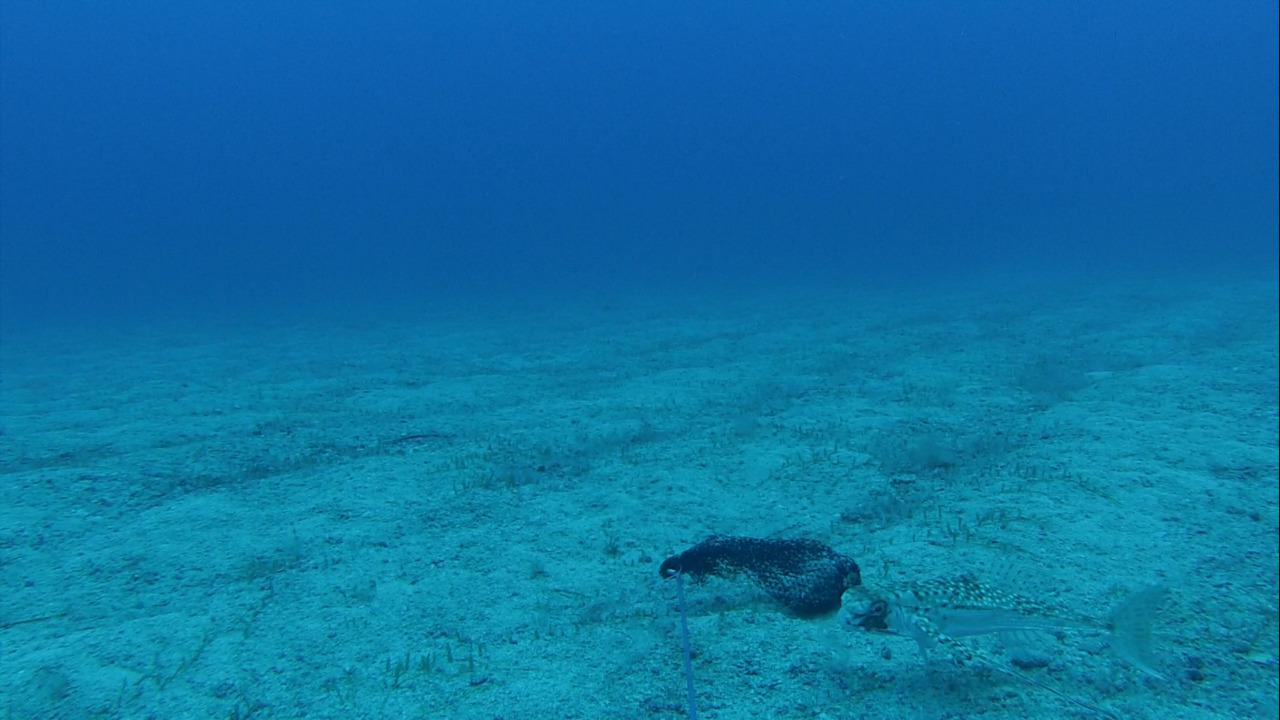dactylopterus: (830, 568, 1172, 689)
